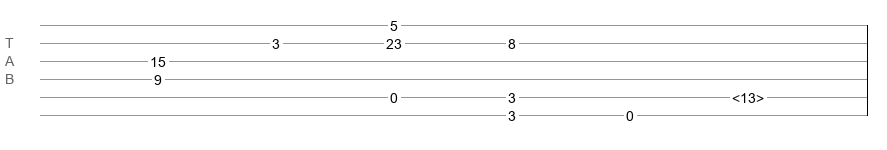0: (390, 90, 398, 100), (626, 108, 634, 118)
15: (150, 54, 166, 64)
23: (386, 36, 402, 46)
3: (272, 36, 280, 46), (508, 108, 516, 118), (508, 90, 516, 100)
5: (390, 18, 398, 28)
8: (508, 36, 516, 46)
9: (154, 72, 162, 82)
harmonic: (732, 90, 764, 100)
